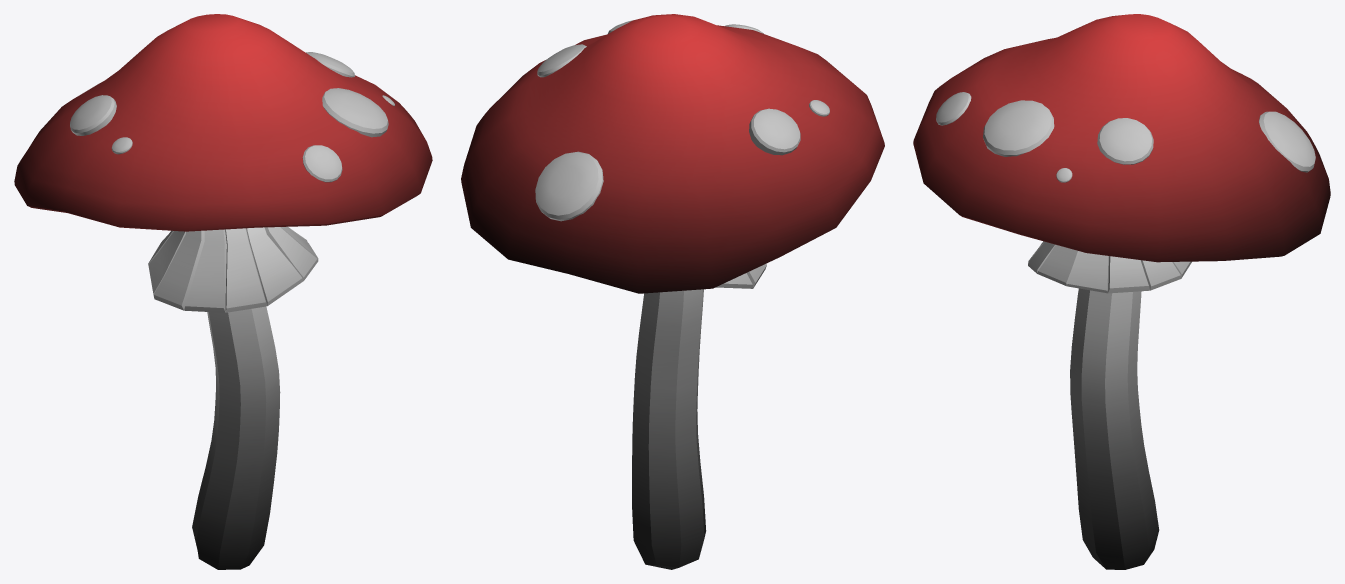
File: mushroom9.fbx
The picture shows the model from 3 angles, left to right: view 1: azimuth 30°, elevation 25°; view 2: azimuth 150°, elevation 25°; view 3: azimuth 270°, elevation 25°; orthographic projection.
Parts seen in each view (by area): view 1: mushroom5; view 2: mushroom5; view 3: mushroom5.
Boxes of the visible parts, x1,y1,x2,y2 form: mushroom5: (14,14,432,569); mushroom5: (461,14,884,569); mushroom5: (913,14,1330,569).
Size of the model in its own units: 60.66 by 87.87 by 61.37.
